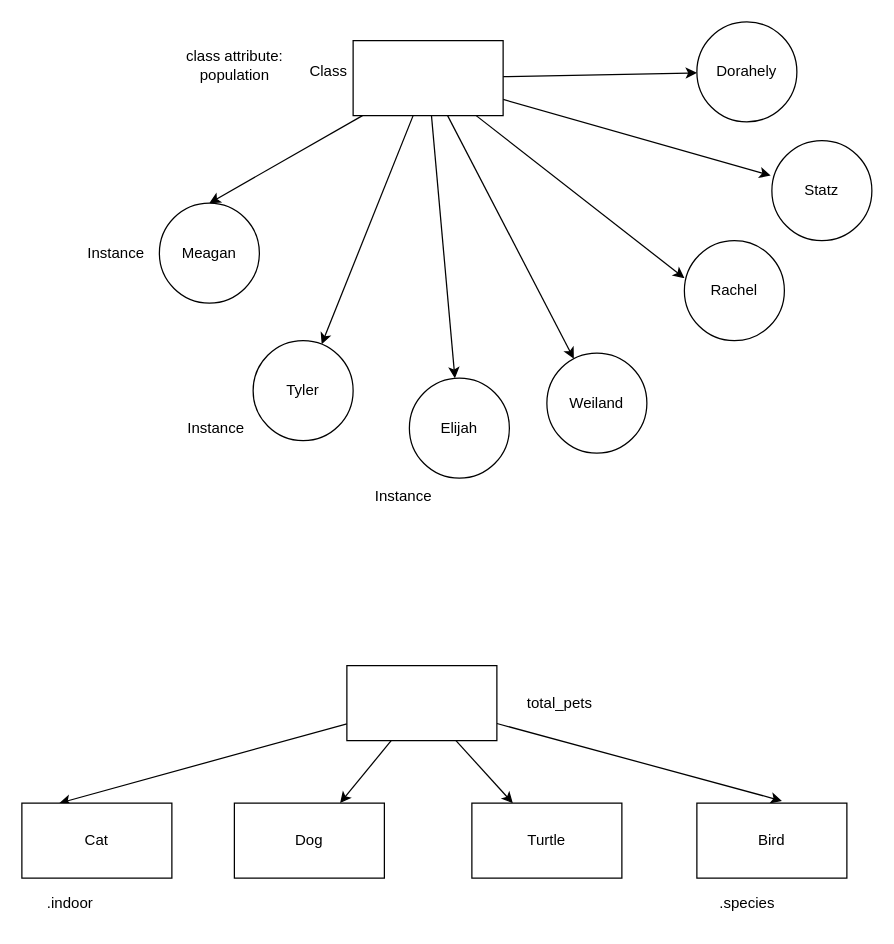
This 894x944 diagram has some shape labels left out. The shapes that lost their labels are listed below. From the top down, each one's centre as x and y in pixels, then its label:
(x=427, y=77): Human DNA
(x=421, y=702): Pet
